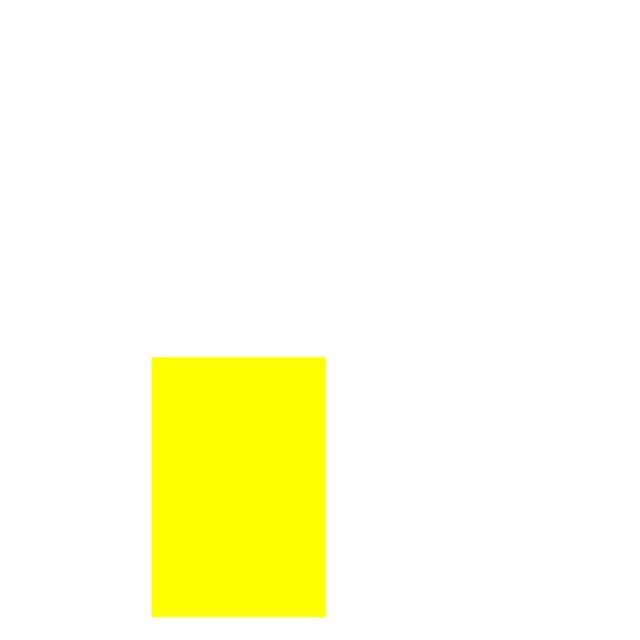Rectangle: (122, 345, 377, 640)
